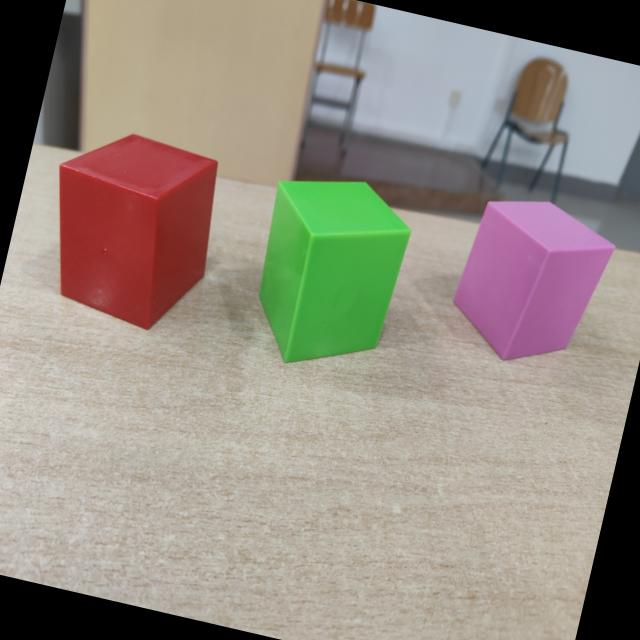green: (257, 181, 411, 364)
pink: (452, 201, 614, 363)
red: (57, 135, 218, 332)
